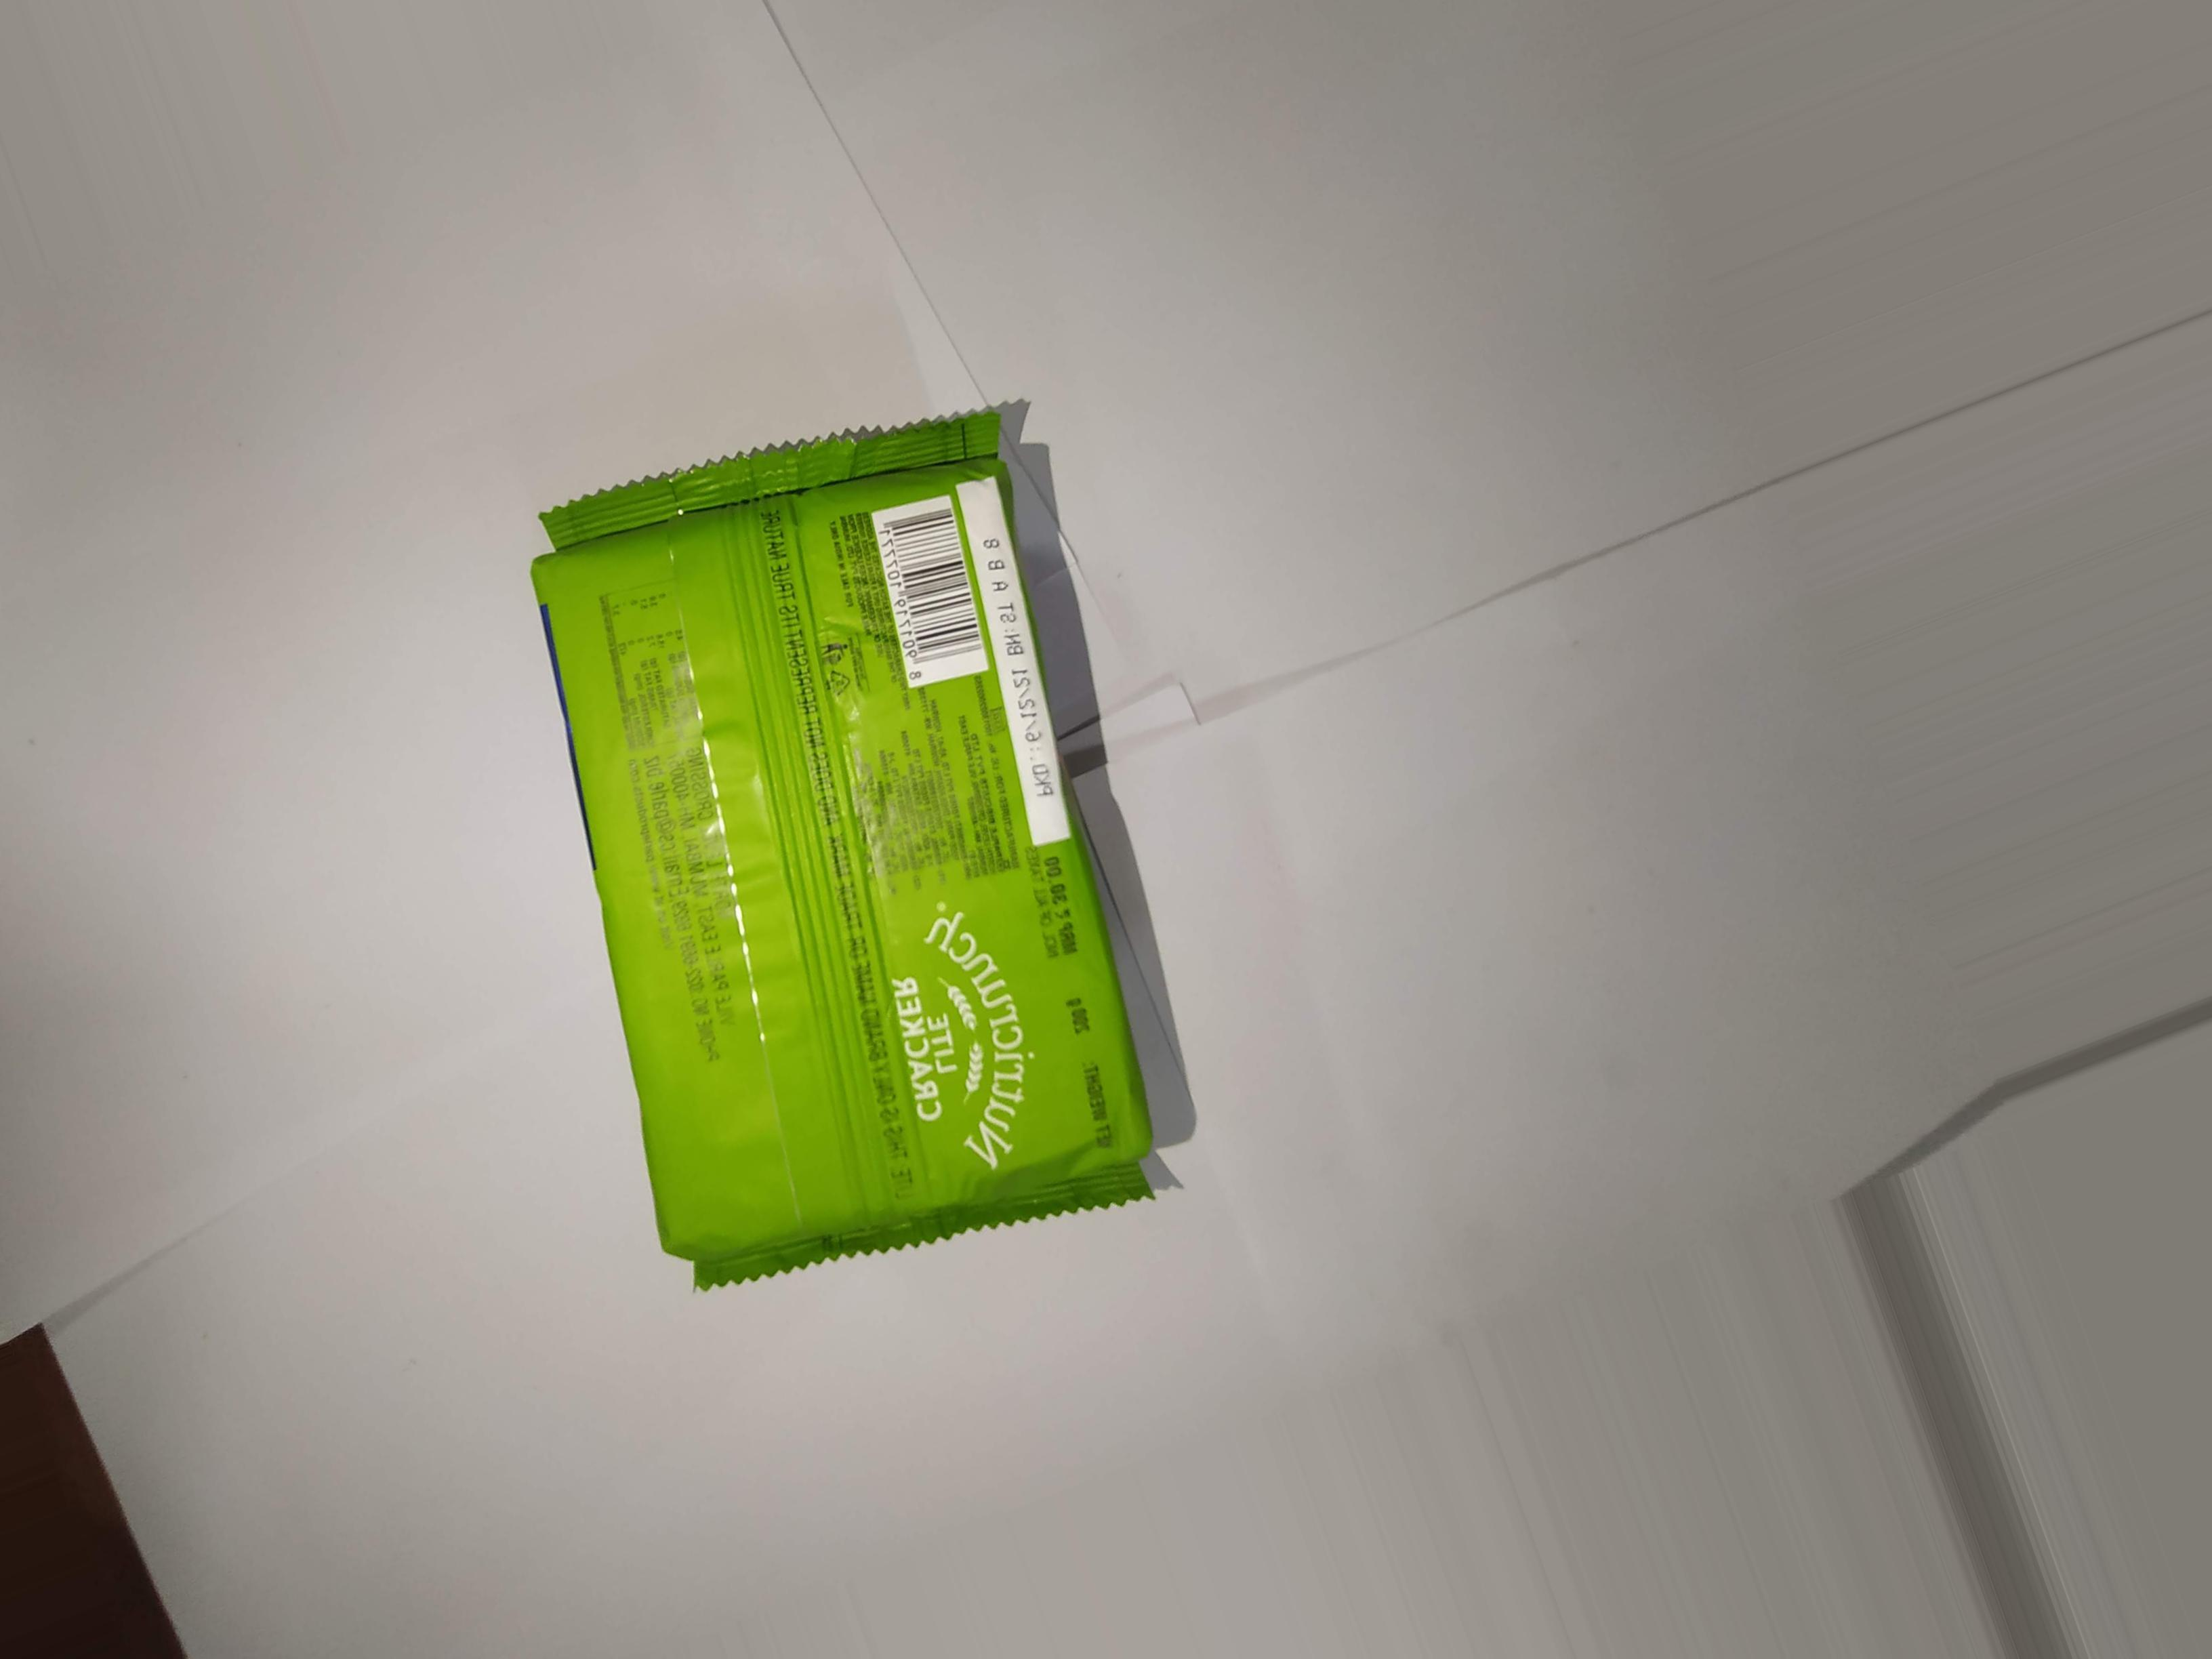Bar_code: (852, 488, 1007, 694)
Item: (430, 319, 1292, 1396)
